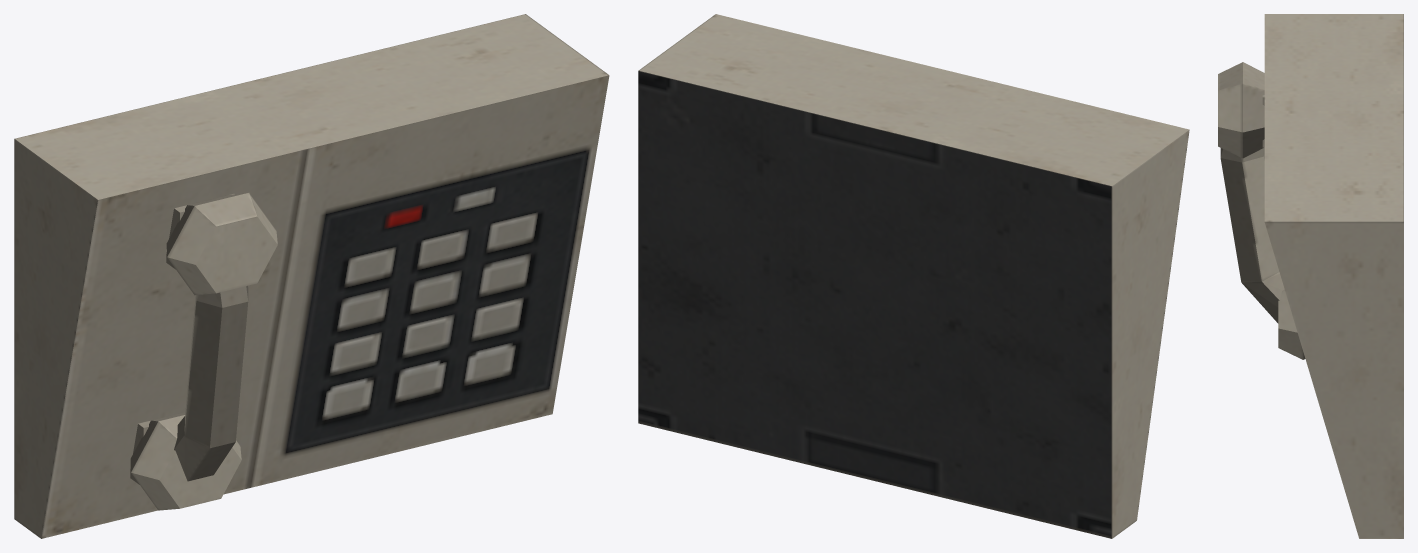
The model's file is pz_phone_modern_white.obj.
3 views of the same model, side by side, from view 1: azimuth 30°, elevation 25°; view 2: azimuth 150°, elevation 25°; view 3: azimuth 270°, elevation 25° (orthographic). The views are drawn at different scales.
Visible parts, largest first — view 1: base, nearly_straight_receiver_grip, receiver_cup_1, receiver_cup_0; view 2: base; view 3: base, nearly_straight_receiver_grip, receiver_cup_1, receiver_cup_0.
Part boxes in pixels (box(x1,y1,x2,y2)): base: box(14, 14, 609, 538); nearly_straight_receiver_grip: box(174, 285, 248, 481); receiver_cup_1: box(166, 192, 277, 295); receiver_cup_0: box(130, 412, 241, 510); base: box(638, 14, 1189, 538); base: box(1264, 14, 1403, 538); nearly_straight_receiver_grip: box(1220, 147, 1284, 323); receiver_cup_1: box(1218, 62, 1264, 158); receiver_cup_0: box(1278, 290, 1305, 359).
Size of the model in its own units: 0.374 by 0.266 by 0.1414.
1 material, 1 textured.
